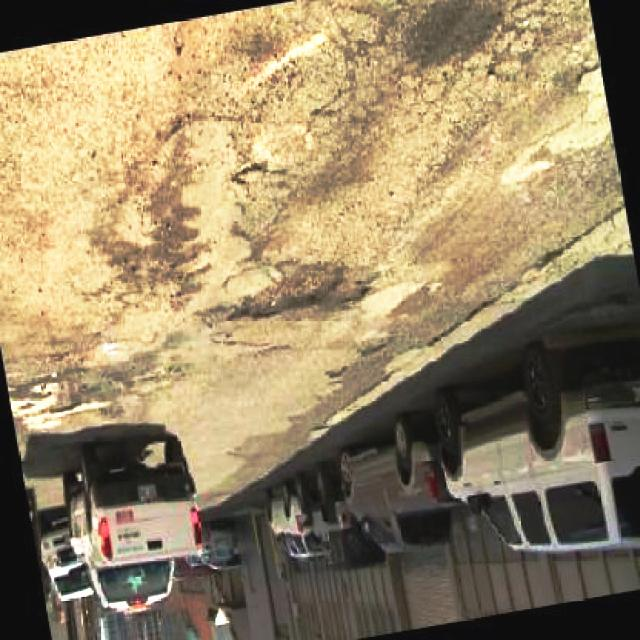pothole: (226, 257, 352, 328), (234, 109, 315, 185), (22, 377, 103, 421)
